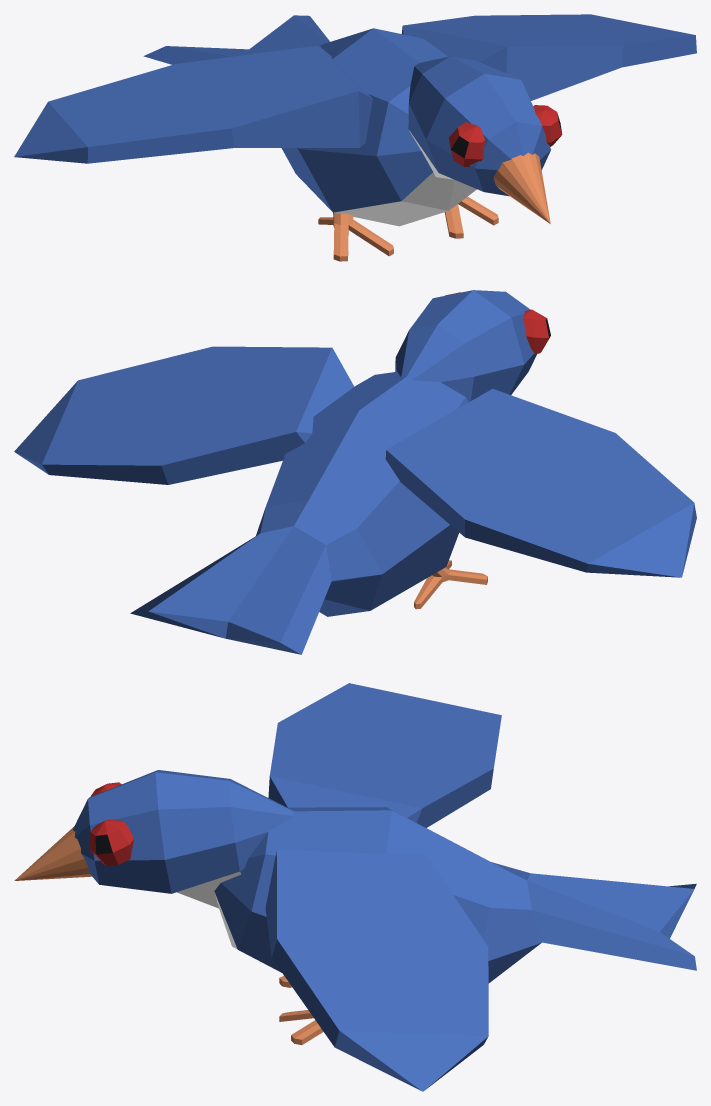
The model's file is BirdFly.fbx.
3 renders of one model, top to bottom at view 1: azimuth 30°, elevation 25°; view 2: azimuth 150°, elevation 25°; view 3: azimuth 270°, elevation 25°, orthographic. The views are drawn at different scales.
Parts seen in each view (by area): view 1: birdFeet; view 2: birdFeet; view 3: birdFeet.
Boxes of the visible parts, x1=… form: birdFeet: x1=14, y1=14, x2=696, y2=261; birdFeet: x1=14, y1=290, x2=696, y2=654; birdFeet: x1=14, y1=683, x2=696, y2=1091.
Size of the model in its own units: 0.2455 by 0.0772 by 0.2073.
